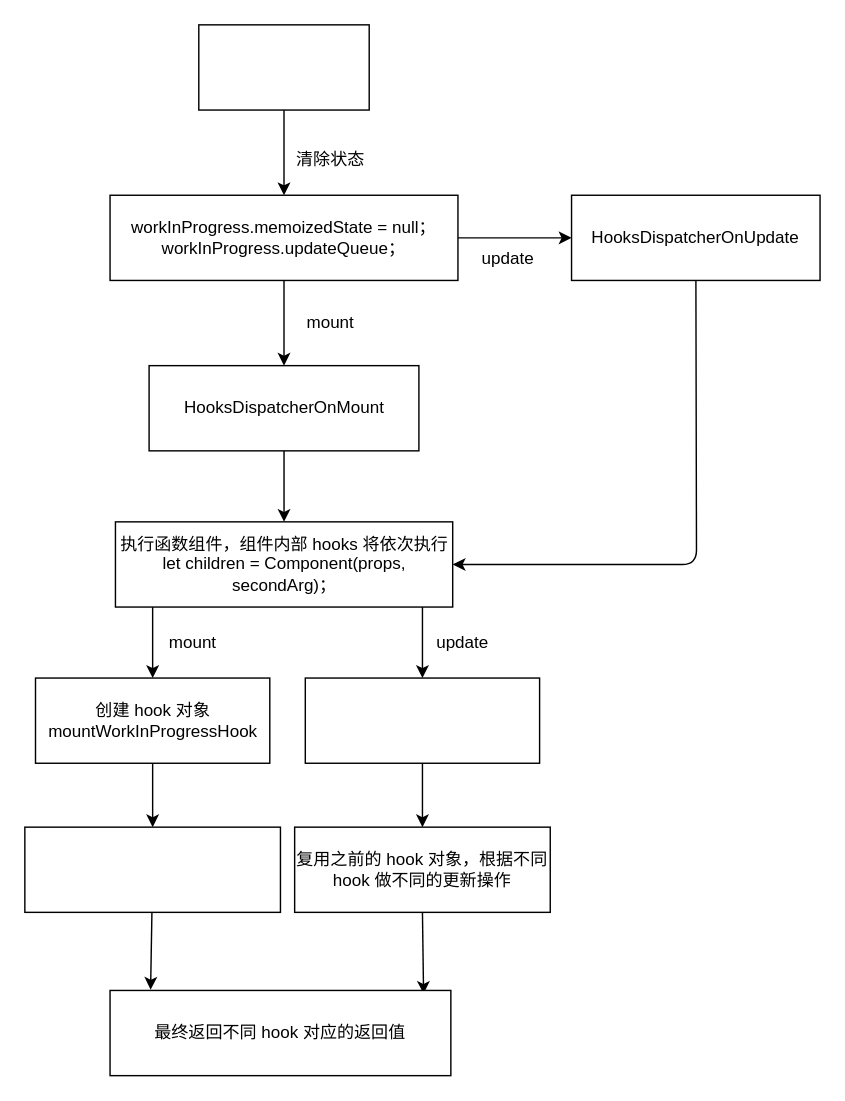
Image size: 845x1101. Some labels were removed from this diagram. The shapes that lost their labels are listed below. From the top down, each one's box as (x1, y1, x2, y2) in pixels, then its label:
(197, 23, 369, 110): renderWithHooks
(304, 677, 540, 763): 获取之前的 hook 对象 updateWorkInProgressHook
(23, 826, 280, 912): 根据 hook 的不同，hook. memoizedState 存储不同信息
